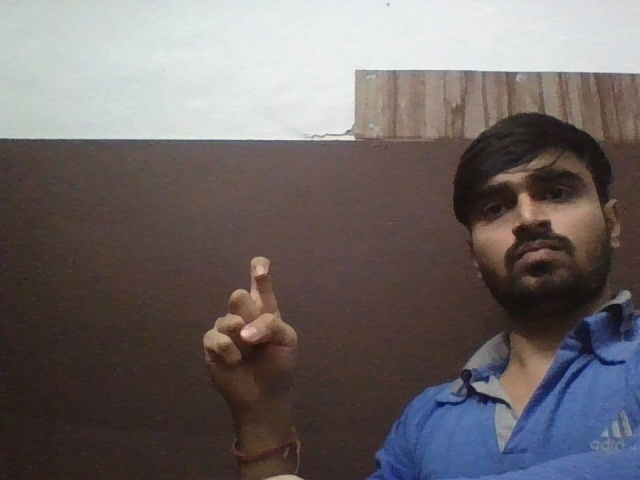X: (186, 250, 299, 406)
